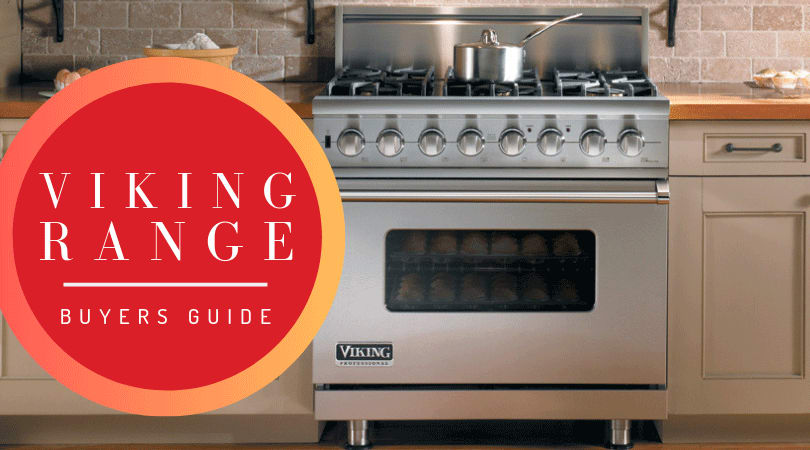stove: (308, 12, 652, 450)
